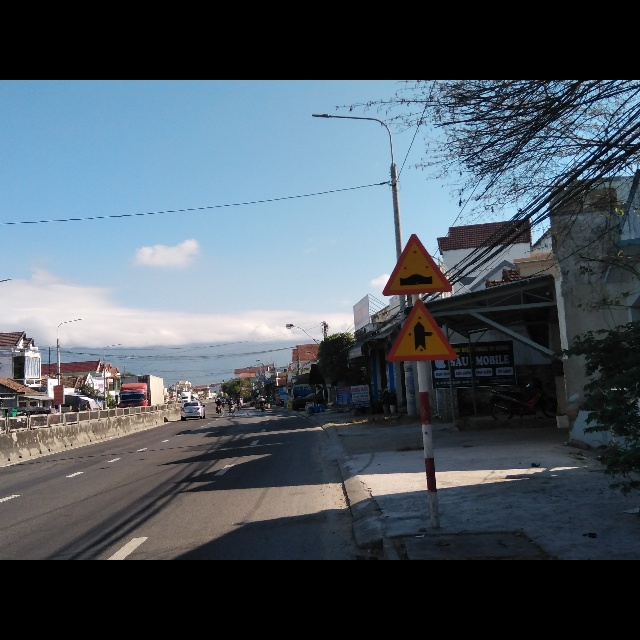Giao nhau với đường không ưu tiên: (383, 299, 458, 363)
Đường không bằng phẳng: (382, 231, 455, 297)
